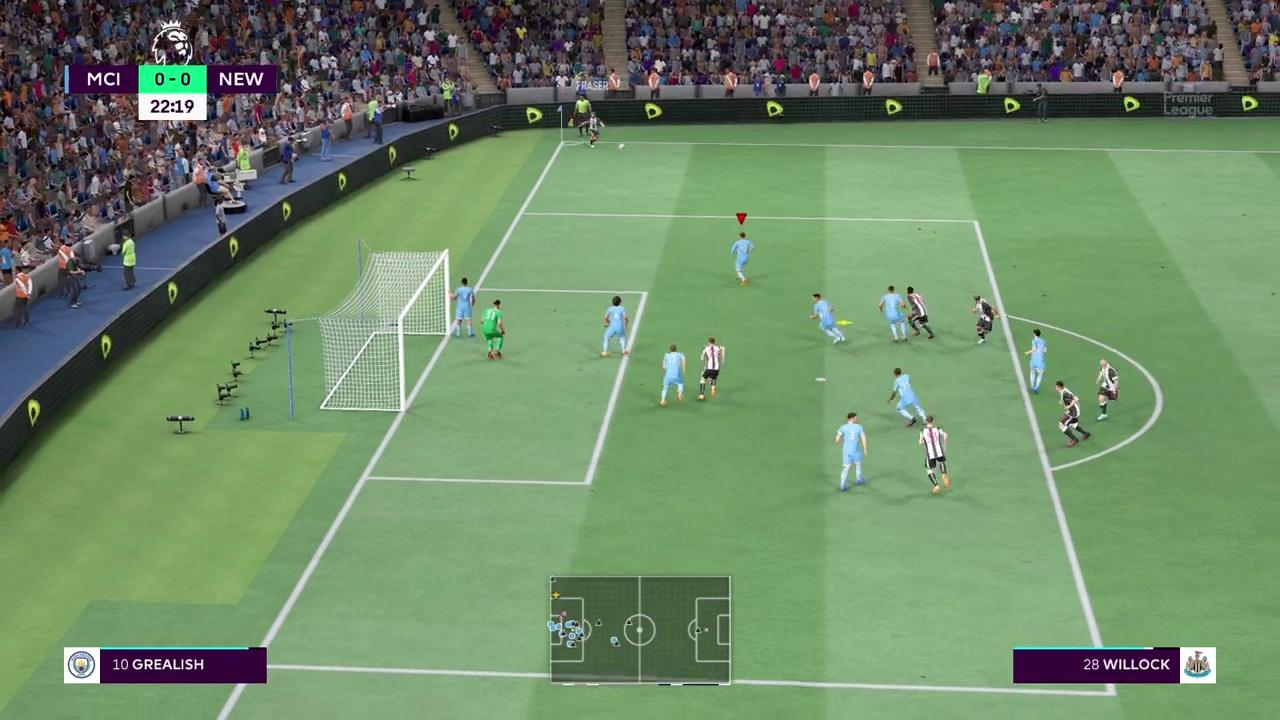scoreboard: (65, 66, 277, 93)
timestamp: (136, 96, 205, 120)
